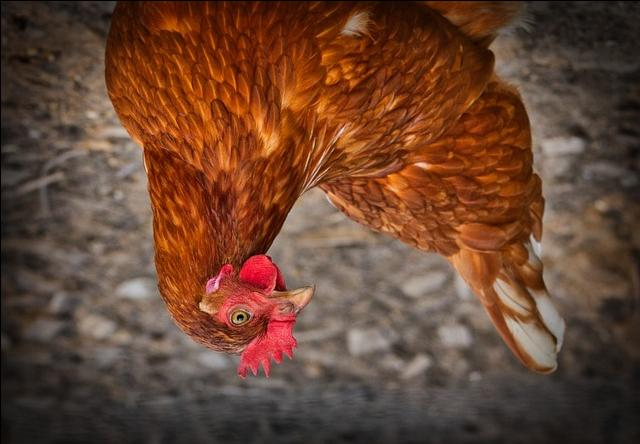Non_Gorille: (54, 0, 557, 439)
